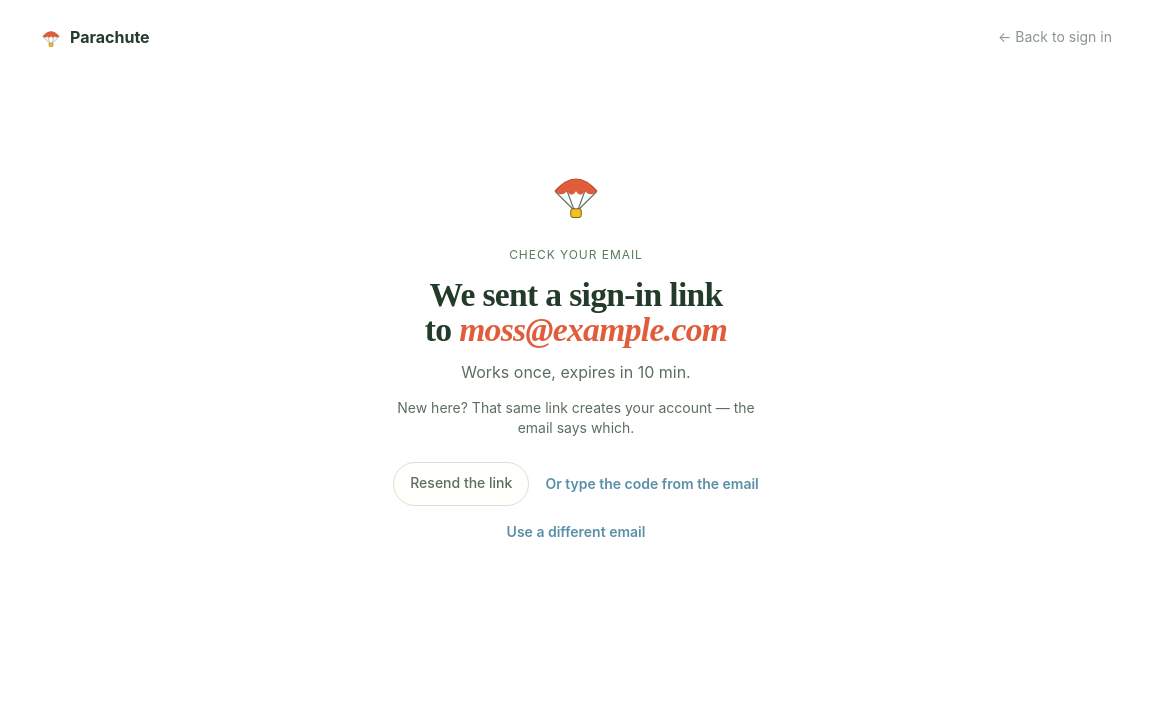
Test: CheckEmail › the sign-in code field › shows the endpoint's neutral error and clears the field on a wrong code
This screenshot has width=1152, height=720.
Click the button "Or type the code from the email".
click(652, 484)  # box [545,474,759,494]
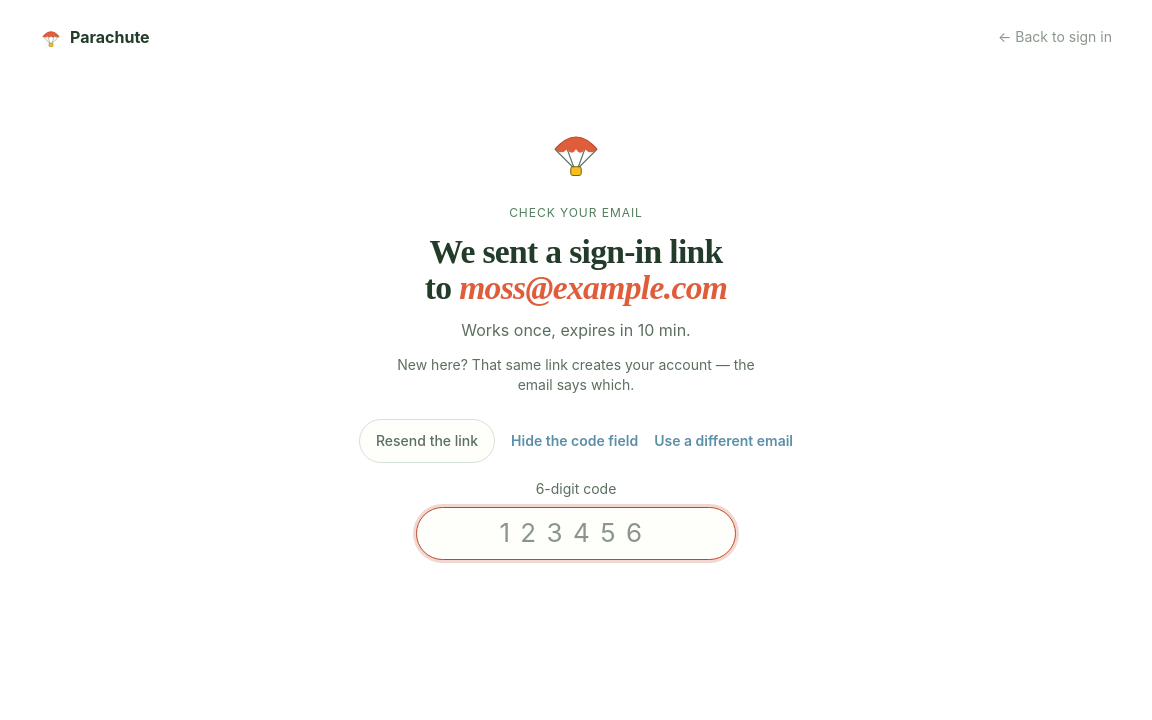
Type "000000" into the field labelled "6-digit code".
click(576, 534); type("000000")  # box [416,507,736,560]
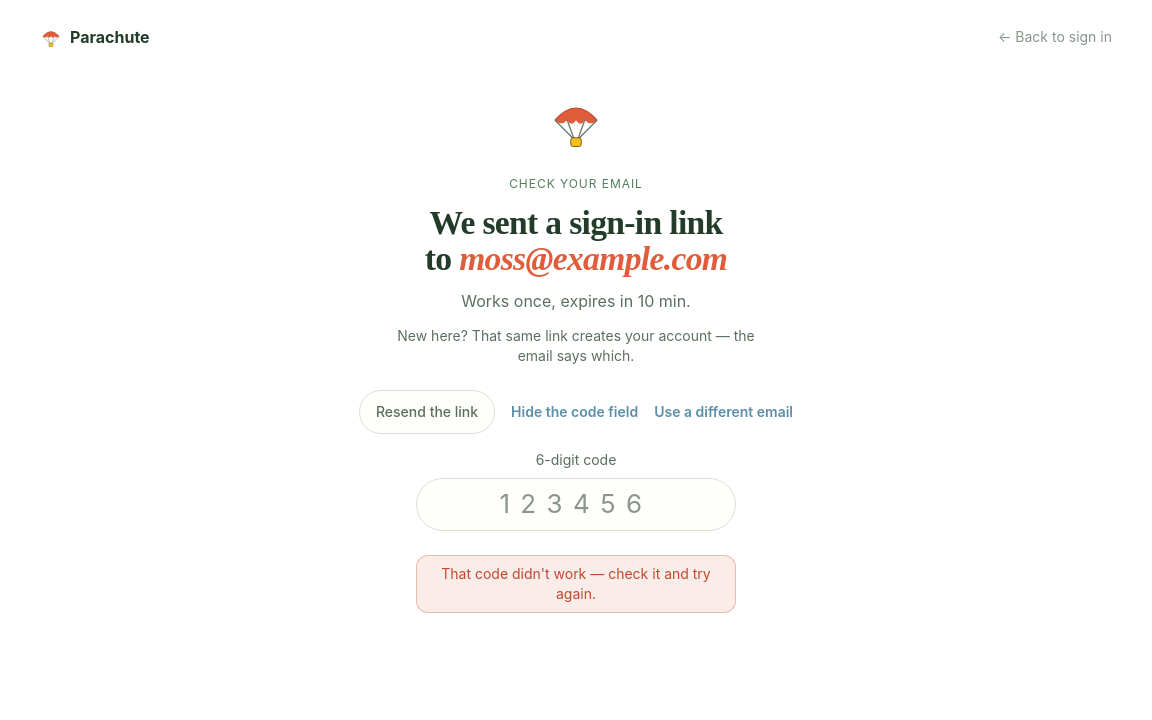
Check: the field labelled "6-digit code" is empty, box [416,478,736,531]
Check: the message shows "didn't work", box [441,565,711,602]
